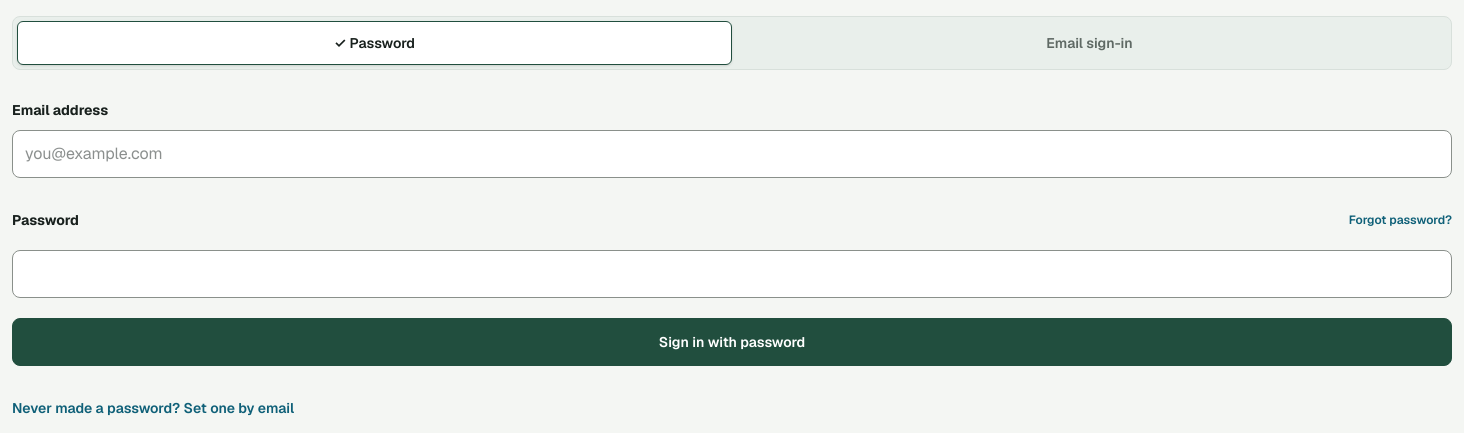
Test: password authentication options › shows one sign-in method at a time
The image size is (1464, 433).
Check: the button "Sign in with password" is shown, box 12,318 -> 1452,366
Check: the button "Send sign-in email" is not shown
Step 1. Click the button "Email sign-in" → (1090, 43), box 732,21 -> 1447,65
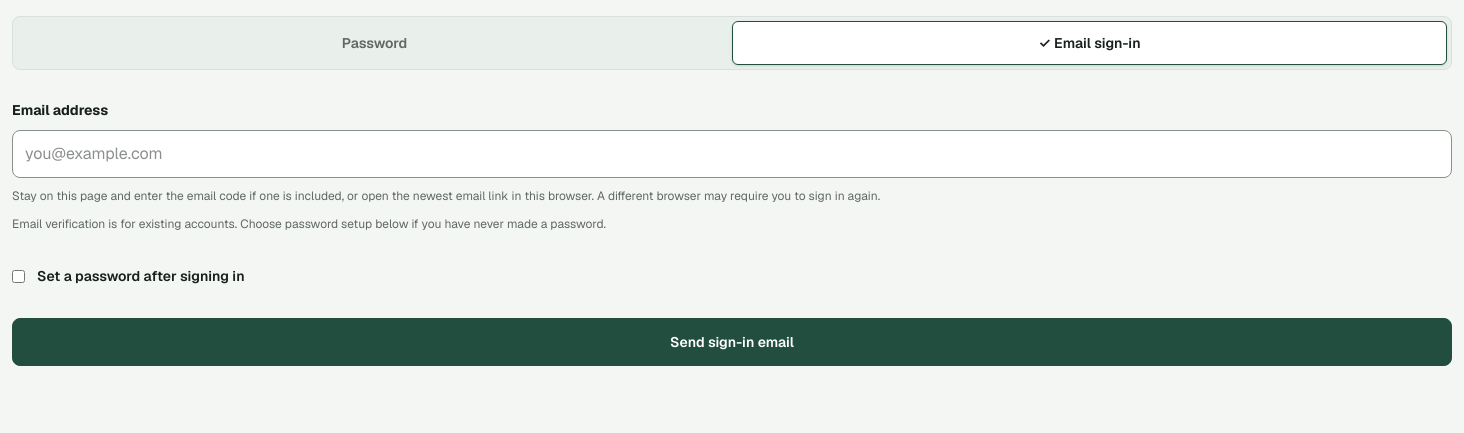
Check: the button "Send sign-in email" is shown, box 12,318 -> 1452,366
Check: the button "Sign in with password" is gone
